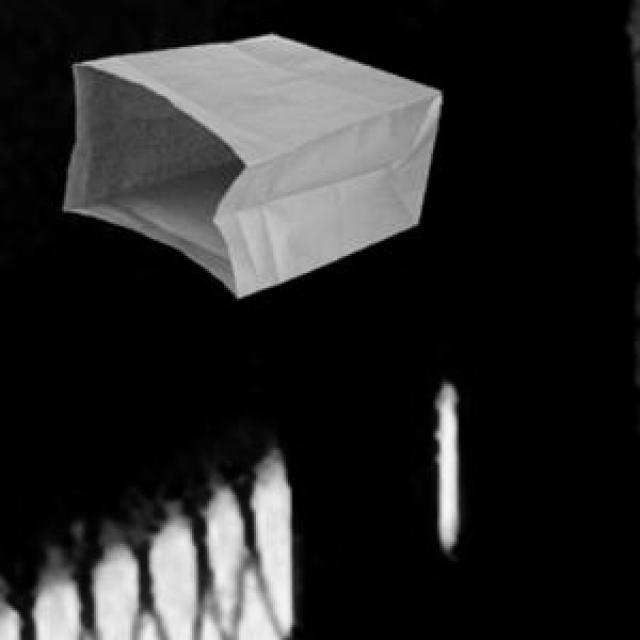paper: (60, 30, 437, 292)
